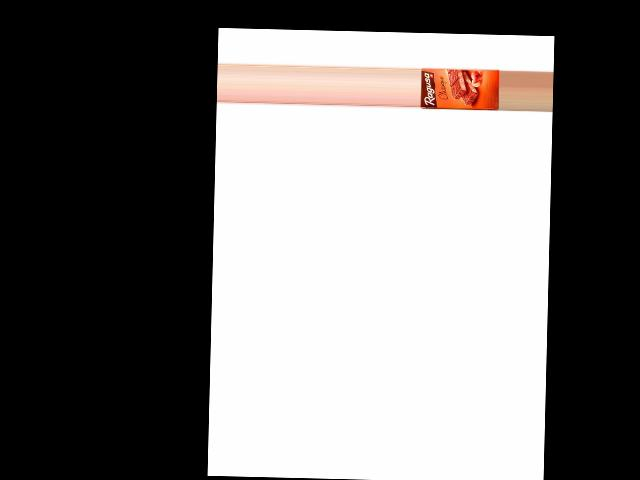chocolate: (421, 63, 500, 112)
